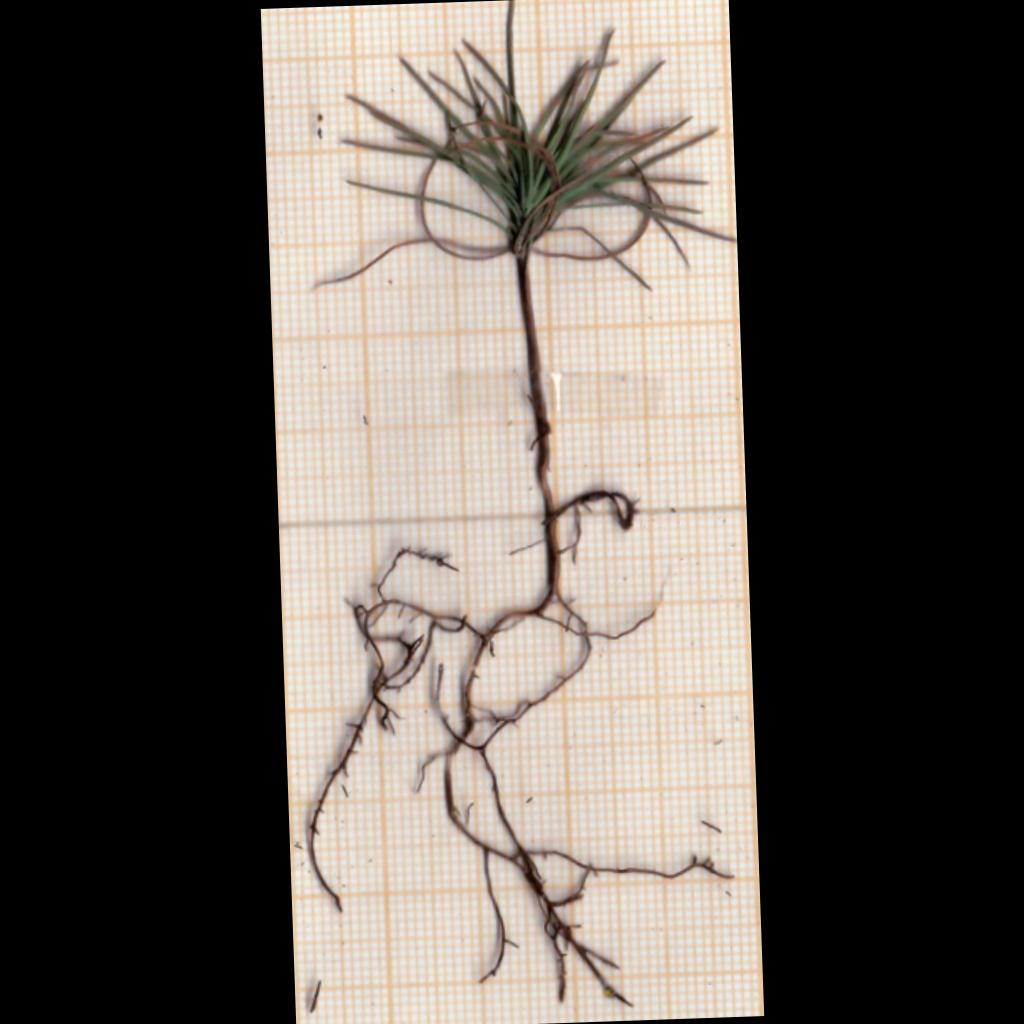flowerCedr: (316, 0, 735, 286)
rootCedr: (309, 491, 655, 1006)
stemCedr: (517, 257, 553, 520)
